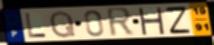0: (83, 9, 106, 38)
H: (137, 7, 166, 36)
L: (24, 12, 48, 39)
Q: (49, 9, 78, 39)
R: (104, 6, 136, 39)
Z: (164, 5, 193, 35)
